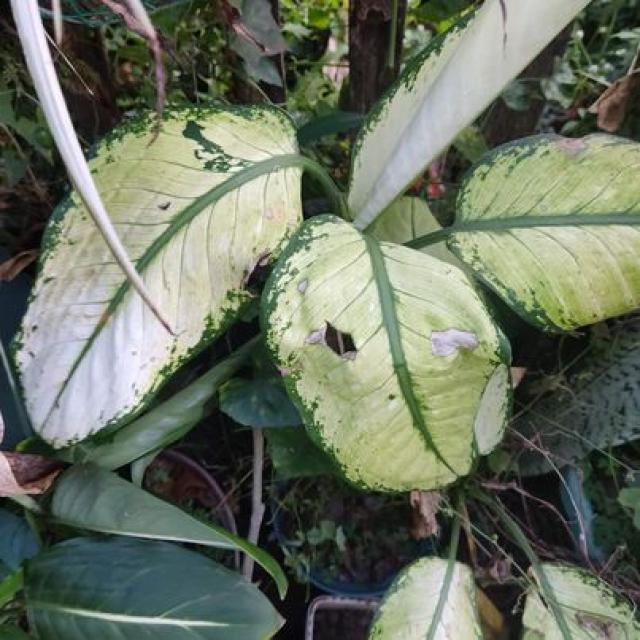blight: (425, 315, 485, 373), (154, 191, 185, 228), (285, 276, 323, 306), (301, 320, 328, 362)
